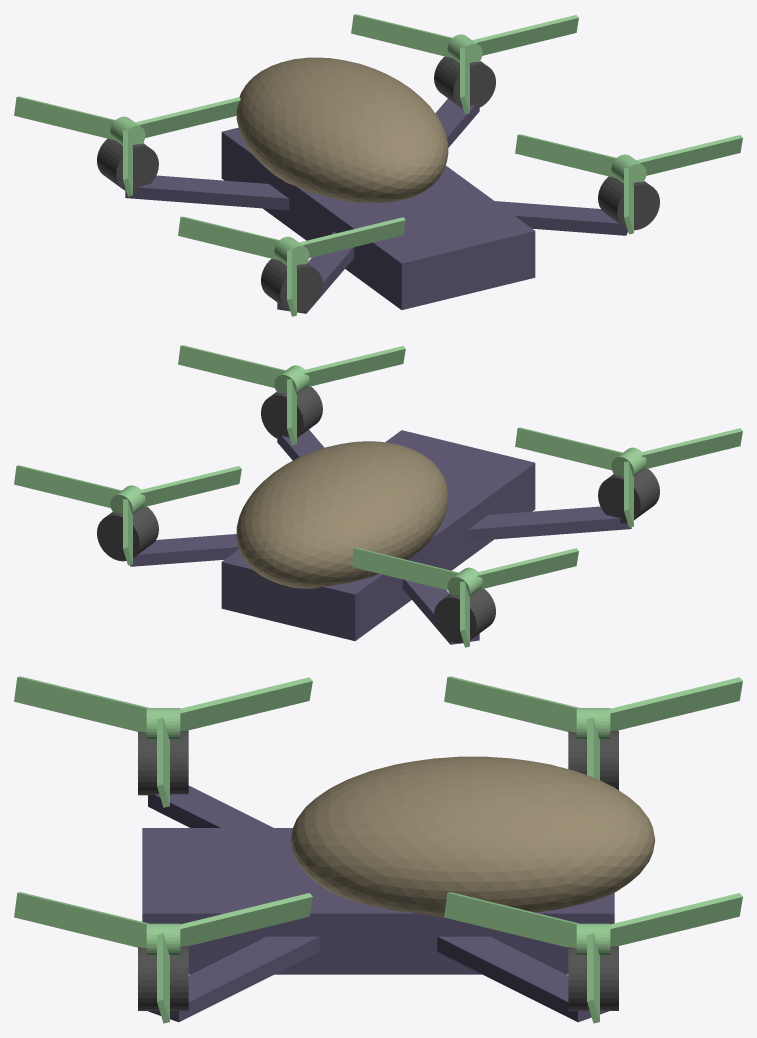
Rendered from Ostrich Air.glb.
3 renders of one model, top to bottom at view 1: azimuth 30°, elevation 25°; view 2: azimuth 150°, elevation 25°; view 3: azimuth 270°, elevation 25°, orthographic. The views are drawn at different scales.
Visible parts, largest first — view 1: canopy, frame_body, prop_2, prop_0, prop_1, prop_3, arm_3, arm_0, motor_0, motor_2, motor_1, motor_3 (+2 smaller); view 2: canopy, frame_body, prop_2, prop_1, prop_0, prop_3, arm_2, arm_1, motor_1, motor_3, motor_0, motor_2 (+2 smaller); view 3: canopy, frame_body, prop_1, prop_0, prop_2, prop_3, arm_1, arm_0, arm_2, motor_2, motor_1, motor_0 (+1 smaller).
Part boxes in pixels (x1,y1,x2,y2): canopy: [236, 57, 448, 202]; frame_body: [221, 127, 535, 309]; prop_2: [178, 216, 405, 316]; prop_0: [515, 134, 742, 234]; prop_1: [351, 14, 578, 114]; prop_3: [14, 96, 240, 196]; arm_3: [125, 175, 289, 210]; arm_0: [495, 201, 627, 235]; motor_0: [598, 176, 659, 230]; motor_2: [261, 259, 322, 312]; motor_1: [434, 56, 495, 108]; motor_3: [97, 138, 158, 192]; canopy: [236, 441, 448, 588]; frame_body: [221, 430, 535, 640]; prop_2: [515, 427, 742, 527]; prop_1: [14, 465, 241, 565]; prop_0: [178, 345, 405, 445]; prop_3: [351, 547, 578, 647]; arm_2: [467, 506, 631, 541]; arm_1: [130, 534, 238, 566]; motor_1: [97, 506, 158, 561]; motor_3: [434, 589, 495, 643]; motor_0: [261, 386, 322, 439]; motor_2: [598, 469, 659, 523]; canopy: [290, 756, 655, 917]; frame_body: [142, 828, 614, 974]; prop_1: [444, 892, 742, 1023]; prop_0: [14, 892, 312, 1023]; prop_2: [14, 676, 312, 807]; prop_3: [444, 676, 742, 779]; arm_1: [437, 936, 608, 1022]; arm_0: [148, 936, 319, 1022]; arm_2: [148, 785, 273, 827]; motor_2: [138, 730, 188, 795]; motor_1: [568, 946, 618, 1010]; motor_0: [138, 946, 188, 1010].
Bounding box in the file's own units: 0.2279 × 0.0516 × 0.2159.
